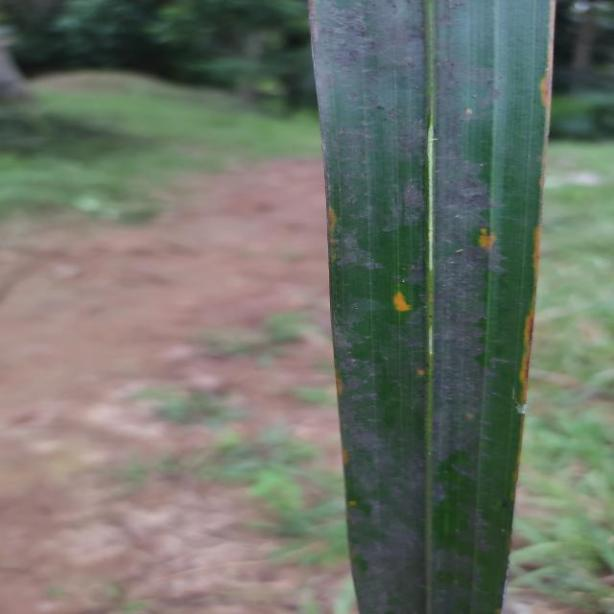Kalium: (312, 0, 556, 614)
